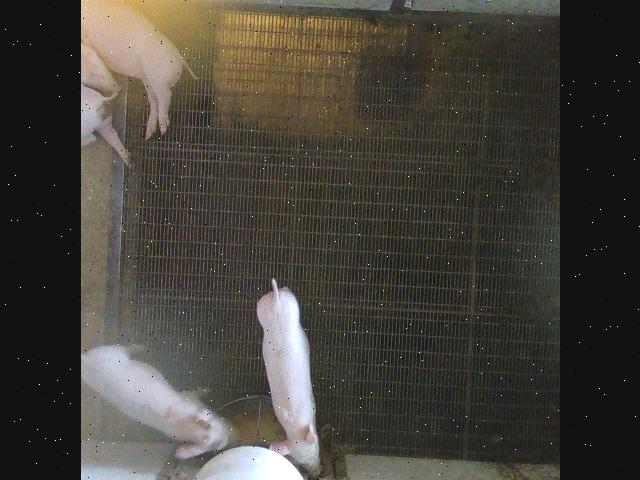pig-5: (82, 345, 229, 459)
